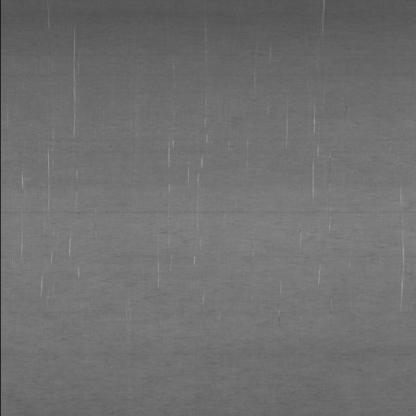waist_folding: (44, 40, 387, 340)
